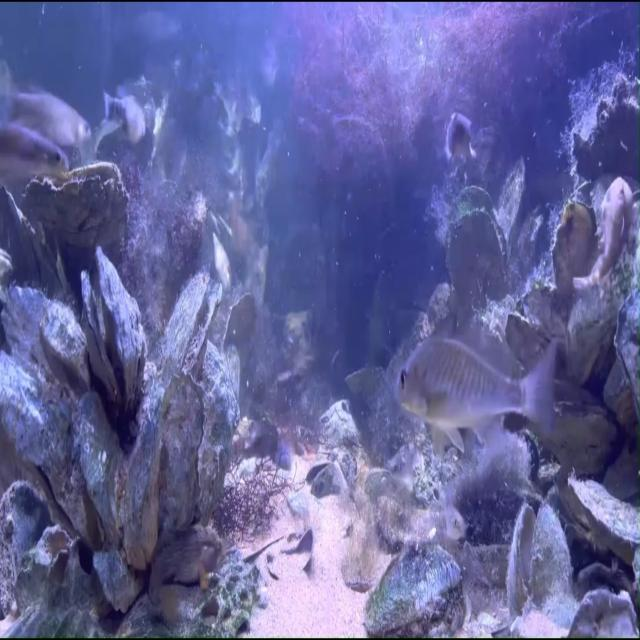Oyster- Indeterminate: (604, 289, 640, 436)
Oyster-Closed: (0, 338, 105, 562), (63, 388, 145, 548), (364, 542, 467, 638), (150, 266, 227, 393), (118, 381, 166, 572), (0, 178, 69, 307), (25, 293, 107, 394), (155, 374, 207, 530), (198, 342, 239, 524), (574, 73, 639, 180), (0, 482, 51, 616), (76, 541, 152, 617), (489, 153, 533, 241)
Oyster-Open: (65, 241, 162, 422), (17, 157, 137, 263), (442, 185, 510, 307), (508, 504, 572, 618), (544, 199, 604, 302), (504, 284, 569, 371), (568, 588, 639, 638), (219, 289, 263, 359), (307, 460, 349, 498)
